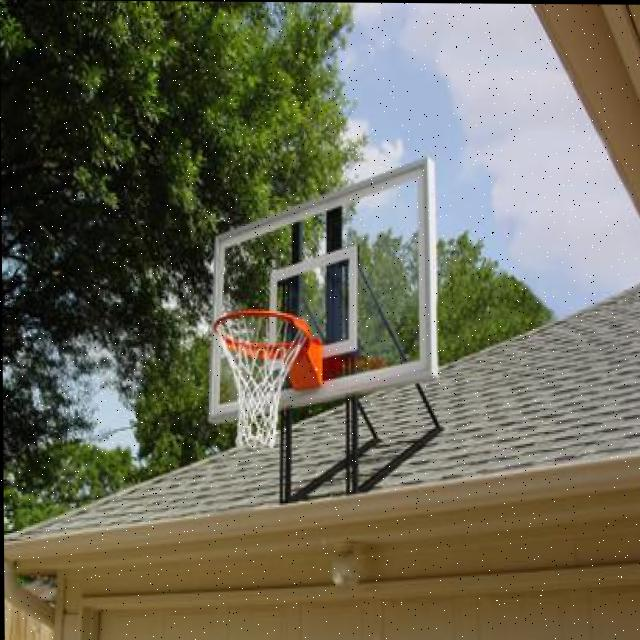hoop: (213, 311, 313, 451)
